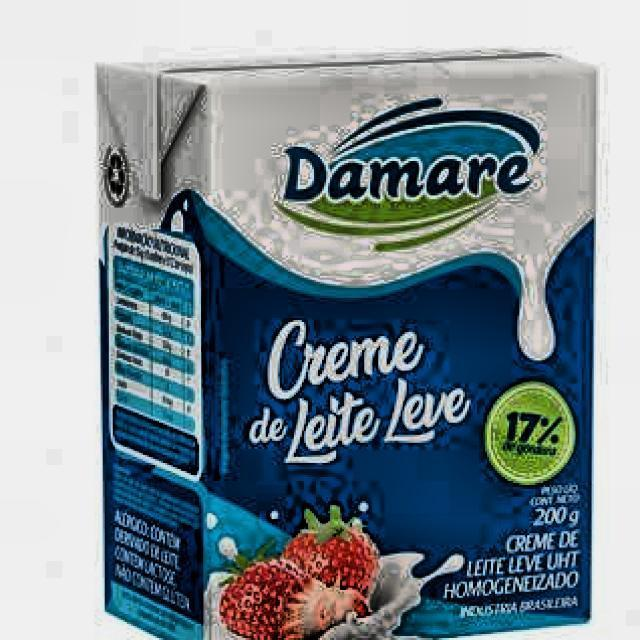cardboard: (95, 48, 598, 640)
